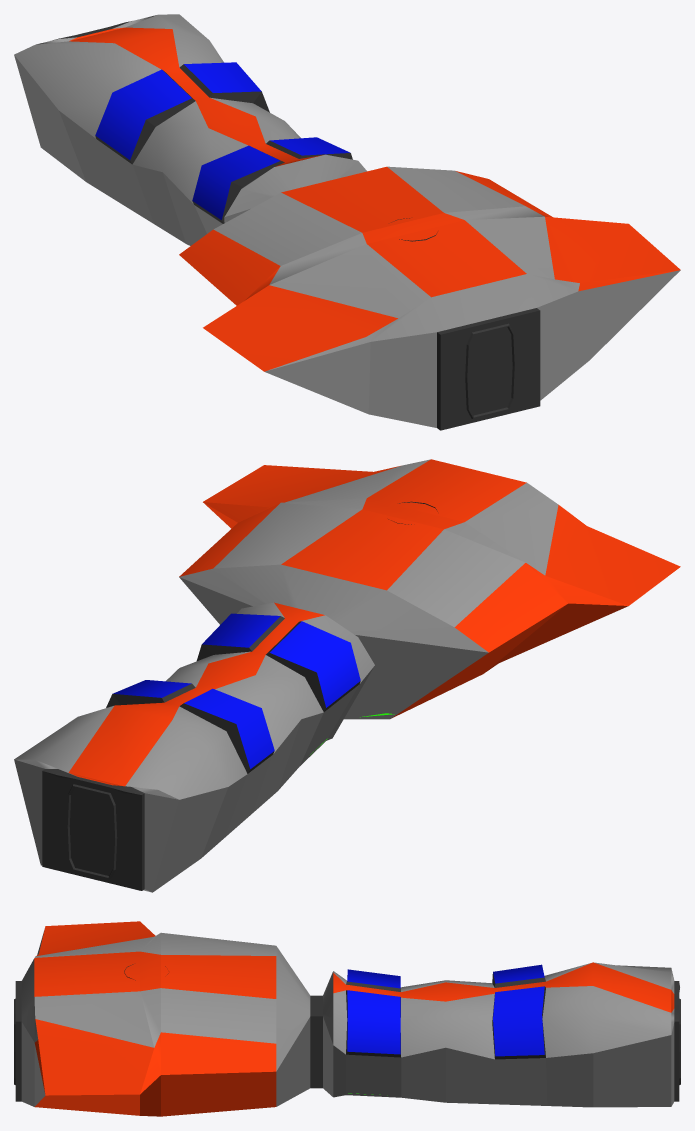
Rendered from Small_Private_Interior.FBX.
3 renders of one model, top to bottom at view 1: azimuth 30°, elevation 25°; view 2: azimuth 150°, elevation 25°; view 3: azimuth 270°, elevation 25°, orthographic. The views are drawn at different scales.
Parts seen in each view (by area): view 1: Interior; view 2: Interior; view 3: Interior.
Part boxes in pixels (<box>): Interior: <box>14,14,680,430</box>; Interior: <box>14,459,680,892</box>; Interior: <box>14,921,680,1116</box>.
Size of the model in its own units: 451 by 137 by 734.
